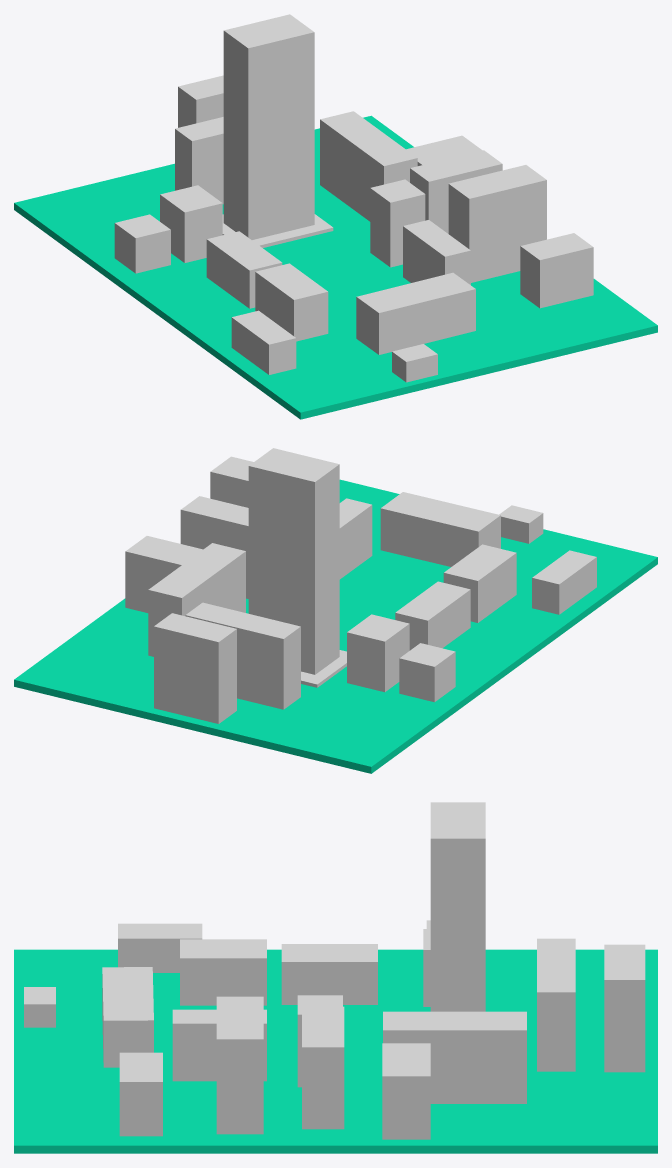
Rendered from fieldscaletwo.glb.
3 views of the same model, one above another, from view 1: azimuth 30°, elevation 25°; view 2: azimuth 150°, elevation 25°; view 3: azimuth 270°, elevation 25° (orthographic). The views are drawn at different scales.
Visible parts, largest first — view 1: Ground, 24th2, 7th, 10th, 21st, 19th, 1st, 25th, 9th, 5th, 15th, 3rd (+7 smaller); view 2: Ground, 24th2, 16th, 10th, 5th, 21st, 25th, 1st, 15th, 23rd, 22nd, 14th (+5 smaller); view 3: Ground, 24th2, 21st, 7th, 15th, 16th, 1st, 23rd, 5th, 22nd, 10th, 19th (+5 smaller).
Part boxes in pixels (x1,y1,x2,y2): Ground: [14, 115, 657, 419]; 24th2: [223, 14, 314, 239]; 7th: [448, 165, 546, 282]; 10th: [356, 272, 475, 354]; 21st: [320, 111, 417, 221]; 19th: [520, 233, 593, 308]; 1st: [255, 263, 328, 341]; 25th: [160, 185, 222, 262]; 9th: [370, 179, 425, 267]; 5th: [175, 117, 223, 204]; 15th: [206, 231, 282, 308]; 3rd: [403, 220, 470, 284]; Ground: [14, 479, 657, 773]; 24th2: [248, 448, 339, 674]; 16th: [154, 613, 236, 723]; 10th: [380, 492, 500, 566]; 5th: [185, 602, 300, 709]; 21st: [148, 543, 245, 656]; 25th: [347, 614, 409, 692]; 1st: [443, 544, 516, 622]; 15th: [395, 581, 470, 650]; 23rd: [180, 496, 248, 598]; 22nd: [125, 536, 202, 612]; 14th: [532, 550, 596, 614]; Ground: [14, 949, 657, 1153]; 24th2: [430, 802, 485, 1011]; 21st: [383, 1011, 526, 1103]; 7th: [216, 996, 263, 1134]; 15th: [281, 944, 377, 1004]; 16th: [604, 944, 645, 1072]; 1st: [180, 939, 266, 1005]; 23rd: [302, 1006, 344, 1129]; 5th: [537, 938, 575, 1071]; 22nd: [382, 1043, 430, 1139]; 10th: [102, 967, 153, 1067]; 19th: [119, 1052, 162, 1136].
Size of the model in its own units: 28.94 by 15.72 by 40.19.
